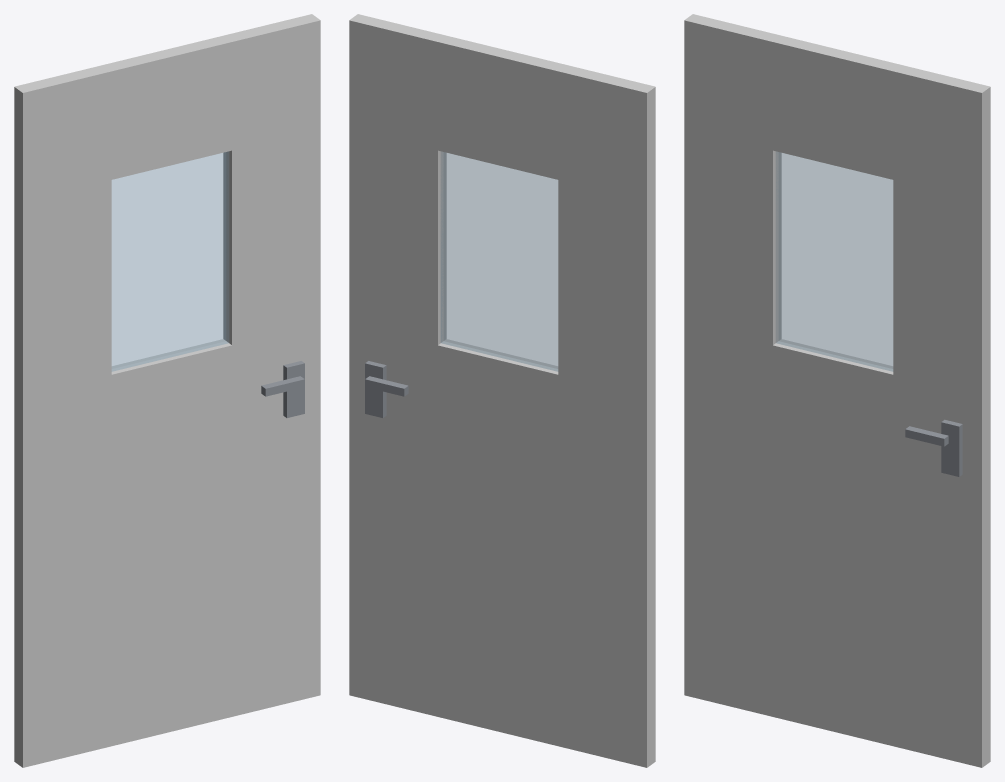
Rendered from SM_Door_office_100x215.fbx.
3 views of the same model, side by side, from view 1: azimuth 30°, elevation 25°; view 2: azimuth 150°, elevation 25°; view 3: azimuth 330°, elevation 25° (orthographic).
Visible parts, largest first — view 1: SM_Door_office_100x215; view 2: SM_Door_office_100x215; view 3: SM_Door_office_100x215.
Part boxes in pixels (x1,y1,x2,y2): SM_Door_office_100x215: (14,14,320,767); SM_Door_office_100x215: (349,14,655,767); SM_Door_office_100x215: (684,14,990,767).
Size of the model in its own units: 0.988 by 2.14 by 0.175.
